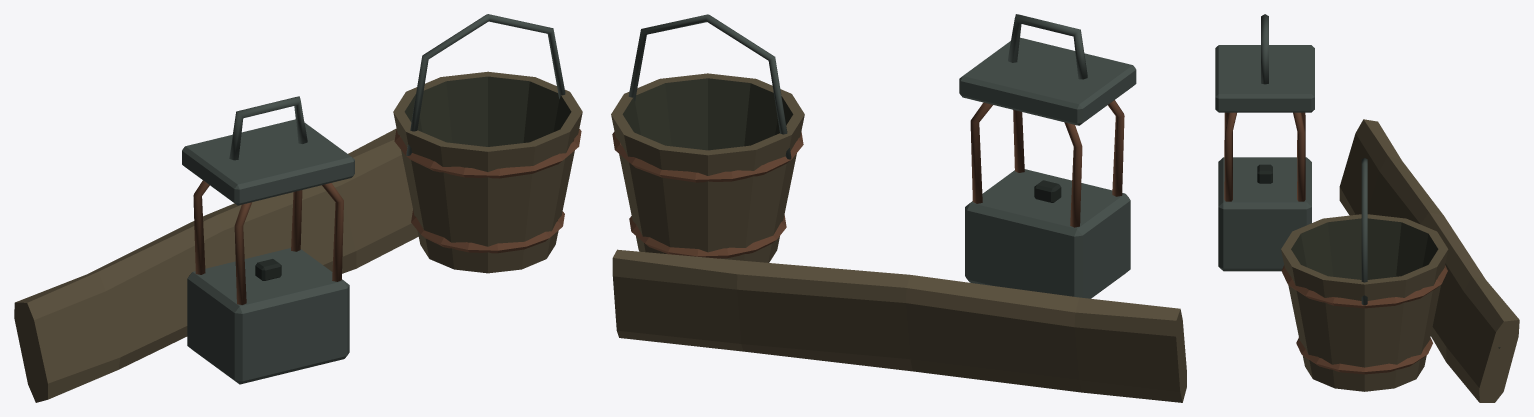
Rendered from drowned-debris.glb.
The picture shows the model from 3 angles, left to right: view 1: azimuth 30°, elevation 25°; view 2: azimuth 150°, elevation 25°; view 3: azimuth 270°, elevation 25°; orthographic projection. The views are drawn at different scales.
Visible parts, largest first — view 1: Surface; view 2: Surface; view 3: Surface.
Boxes of the visible parts, <box> form: Surface: <box>14,14,582,402</box>; Surface: <box>611,14,1186,402</box>; Surface: <box>1215,14,1519,402</box>.
Size of the model in its own units: 0.9531 by 0.4853 by 0.5195.
